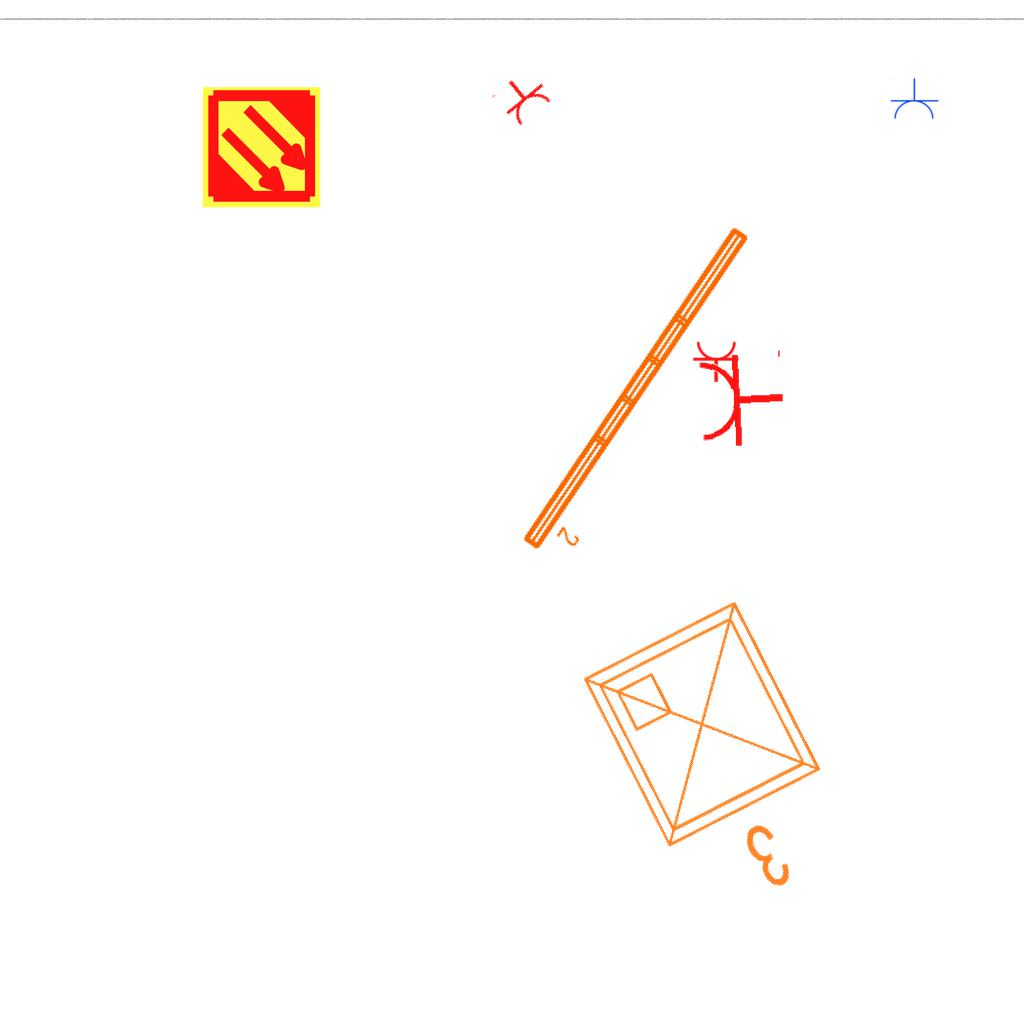ASR_Ansaugrauchmelder: (199, 85, 324, 210)
Ambulanz_Pendelleuchte_LED: (515, 218, 778, 572)
Einbaudownlights_LED_Konferenzraeume: (563, 578, 885, 940)
Schukosteckdose_einfach: (695, 345, 788, 451), (489, 65, 556, 131), (889, 78, 939, 121), (692, 340, 742, 383)
